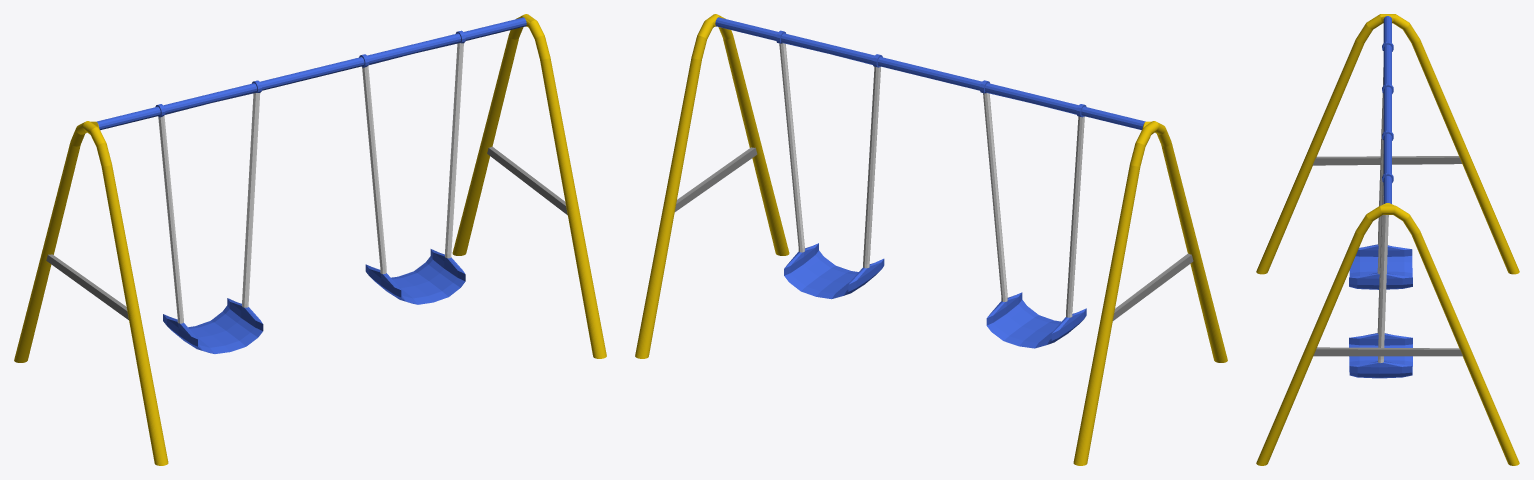
File: prop_swing.glb
3 views of the same model, side by side, from view 1: azimuth 30°, elevation 25°; view 2: azimuth 150°, elevation 25°; view 3: azimuth 270°, elevation 25° (orthographic). The views are drawn at different scales.
Parts seen in each view (by area): view 1: Swing; view 2: Swing; view 3: Swing.
Boxes of the visible parts, left/top/right/bottom form: Swing: left=14, top=14, right=606, bottom=465; Swing: left=635, top=14, right=1227, bottom=465; Swing: left=1256, top=14, right=1519, bottom=465.
Bounding box in the file's own units: 3.08 × 1.89 × 1.74.
1 material, 1 textured.
